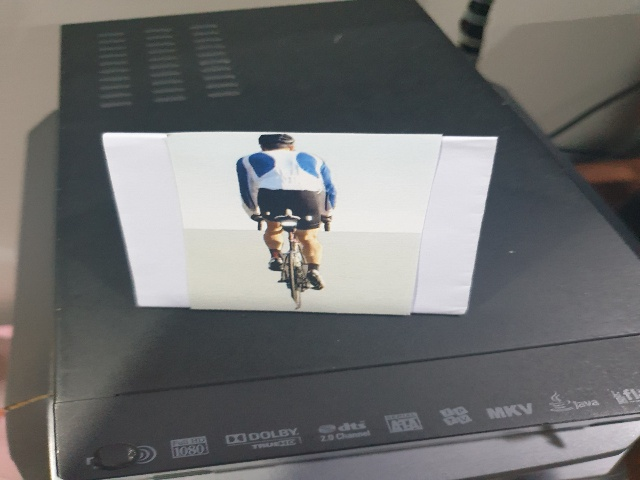Cyclist: (208, 133, 366, 314)
